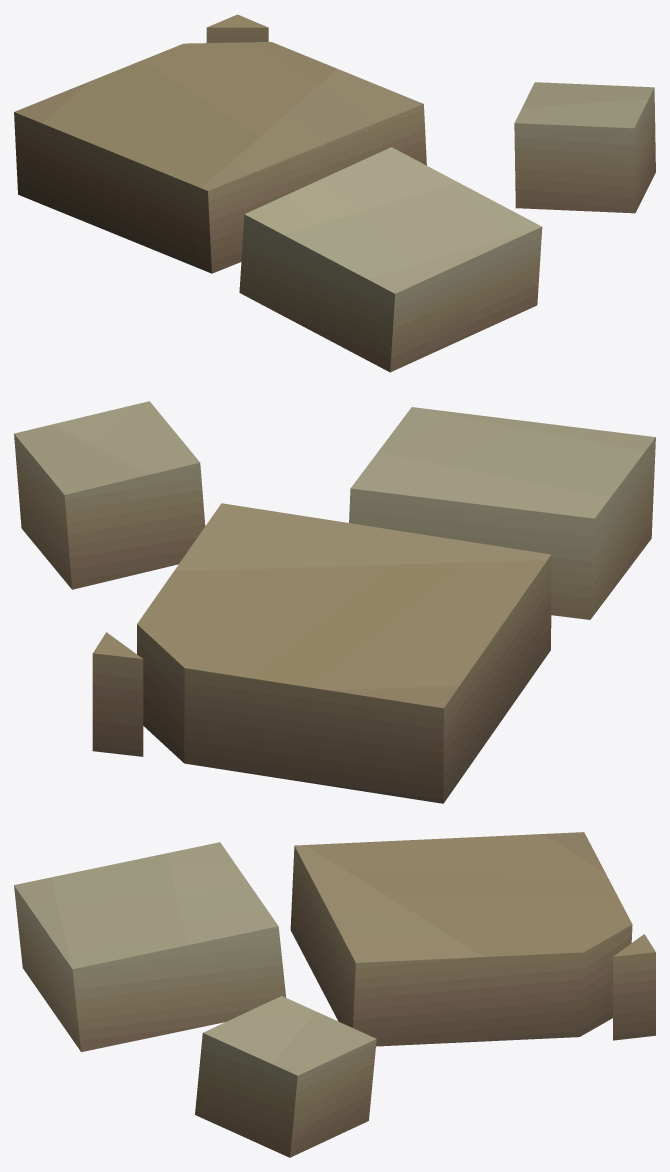
Rendered from Stones_002.FBX.
3 renders of one model, top to bottom at view 1: azimuth 30°, elevation 25°; view 2: azimuth 150°, elevation 25°; view 3: azimuth 270°, elevation 25°, orthographic. The views are drawn at different scales.
Visible parts, largest first — view 1: Stones_002; view 2: Stones_002; view 3: Stones_002.
Boxes of the visible parts, x1=… form: Stones_002: x1=14, y1=14, x2=655, y2=372; Stones_002: x1=14, y1=401, x2=655, y2=803; Stones_002: x1=14, y1=832, x2=655, y2=1157.
Bounding box in the file's own units: 0.1421 × 0.1548 × 0.0279.
